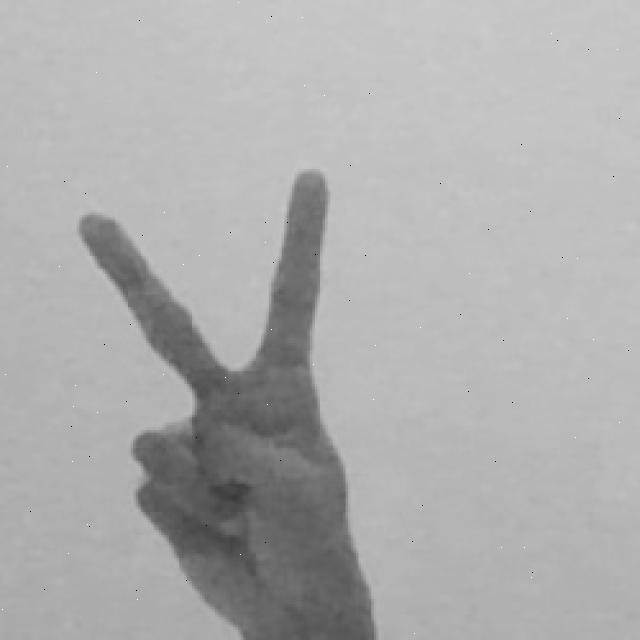V: (74, 161, 384, 640)
